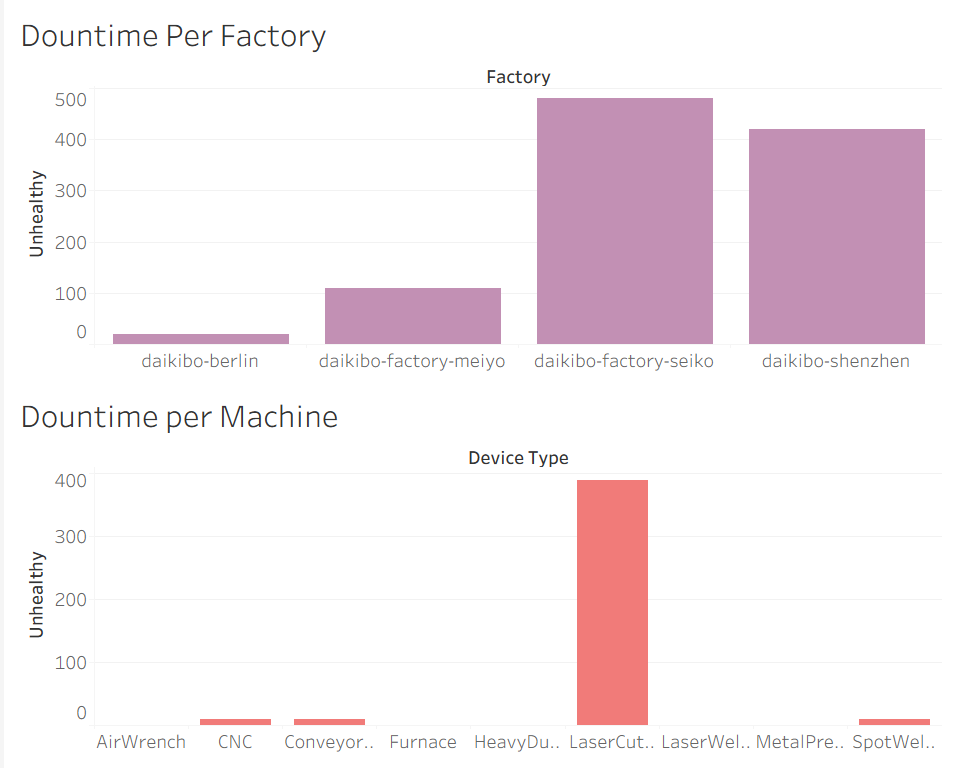

Layout of this report page (visuals, bound fields, positions):
{"tool":"tableau","page":{"name":"Dashboard 1","canvas":[1000,1000],"units":"permille","ordinal":0},"visuals":[{"type":"worksheet","title":"Dountime Per Factory","mark":"Automatic","rows":["Calculation_1373034985273647104"],"cols":["factory"],"box":[8.4,10.3,983.2,489.7]},{"type":"worksheet","title":"Dountime per Machine ","mark":"Automatic","rows":["Calculation_1373034985273647104"],"cols":["deviceType"],"box":[8.4,499.9,983.2,489.8]}]}

Visuals, with their boxes on the dashboard's canvas, which has no fixed pixel size, in thousandths of its width and height (x1, y1, x2, y2). These are canvas units, not pixel positions in the 954x768 screenshot, which may show the page scaled, cropped or inside an application window:
"Dountime Per Factory" worksheet: <box>8,10,992,500</box>
"Dountime per Machine " worksheet: <box>8,500,992,990</box>
